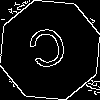C: (25, 25, 73, 80)
